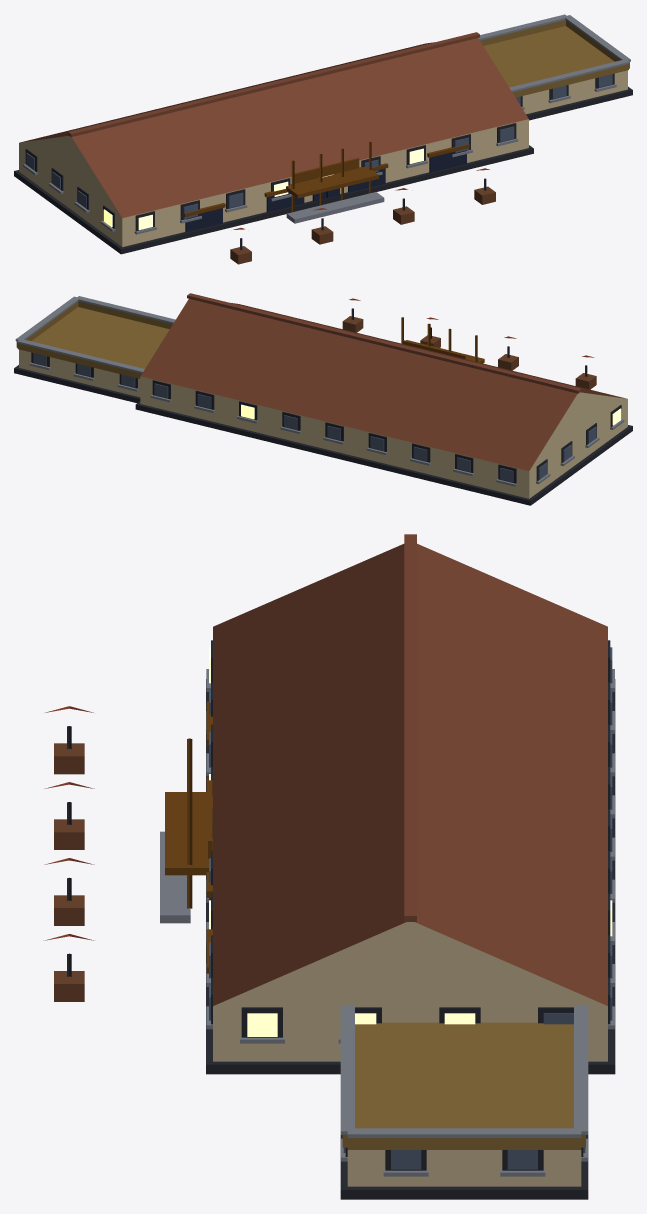
File: canteen-high.glb
3 renders of one model, top to bottom at view 1: azimuth 30°, elevation 25°; view 2: azimuth 150°, elevation 25°; view 3: azimuth 270°, elevation 25°, orthographic. The views are drawn at different scales.
Size of the model in its own units: 135 by 19.21 by 65.
